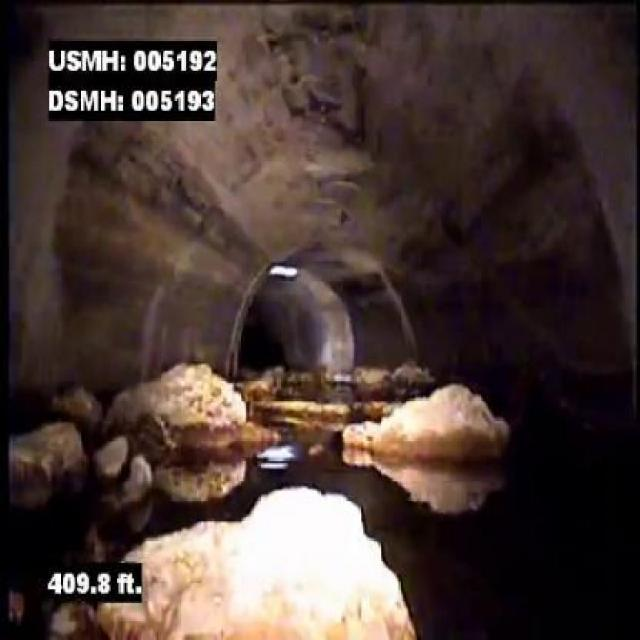Obstacle: (96, 486, 422, 639), (345, 382, 520, 464), (103, 358, 251, 451)
